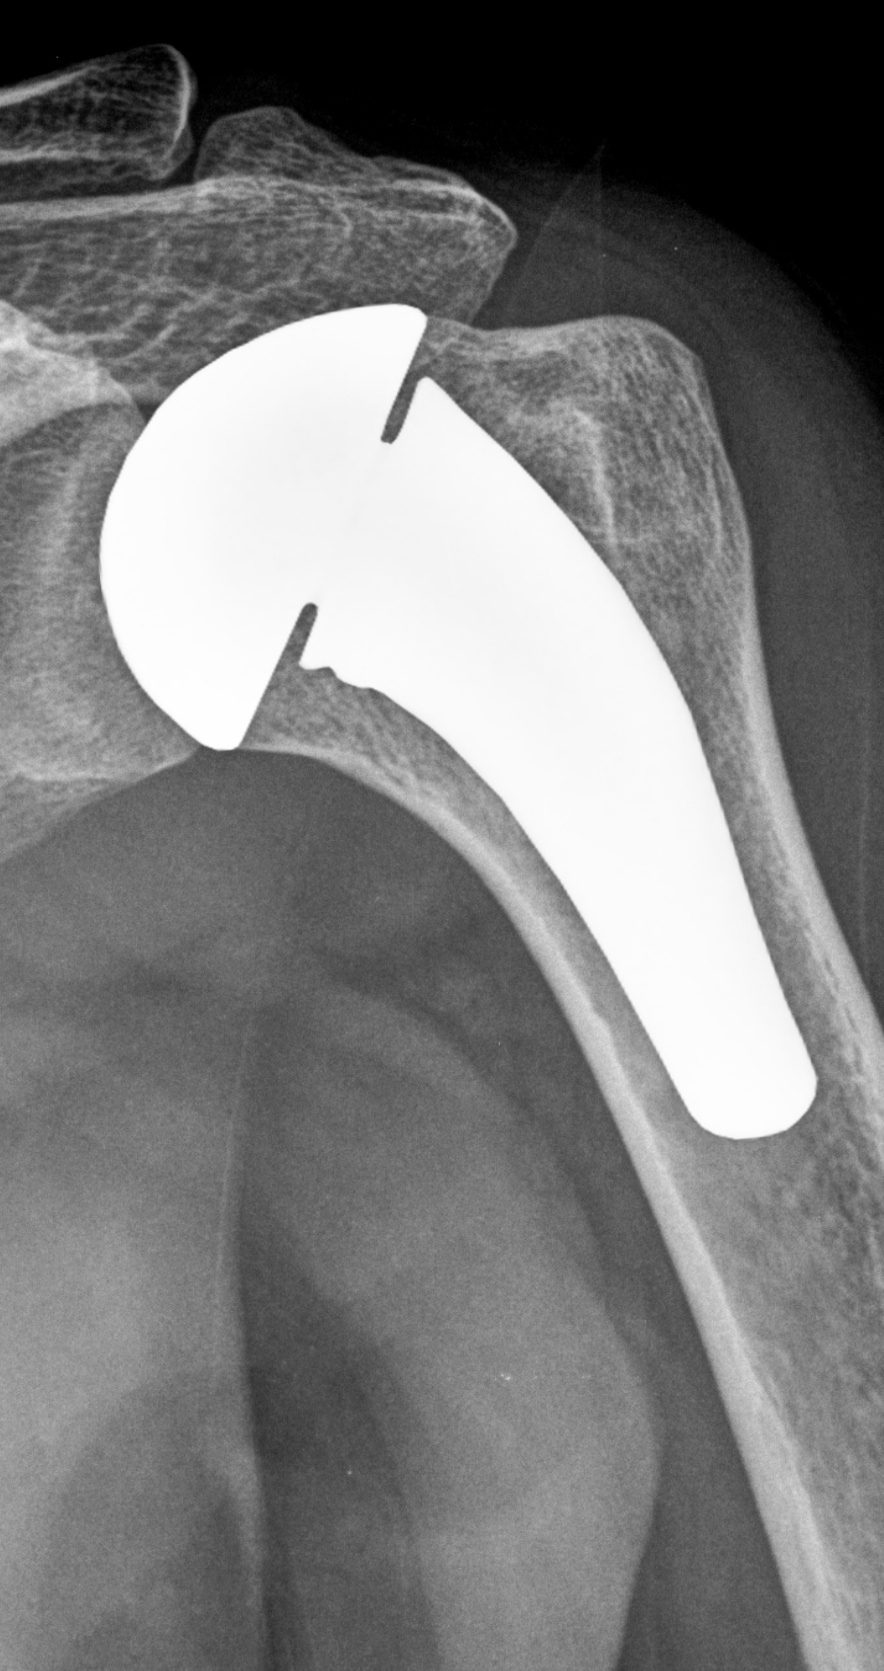Shoulder - AequalisAscendFlex - Tornier: (90, 278, 433, 767)
